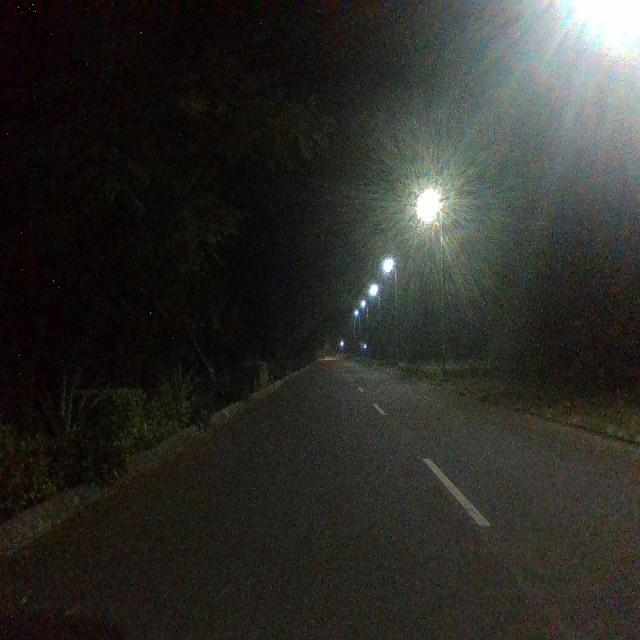lane: (0, 362, 572, 640)
